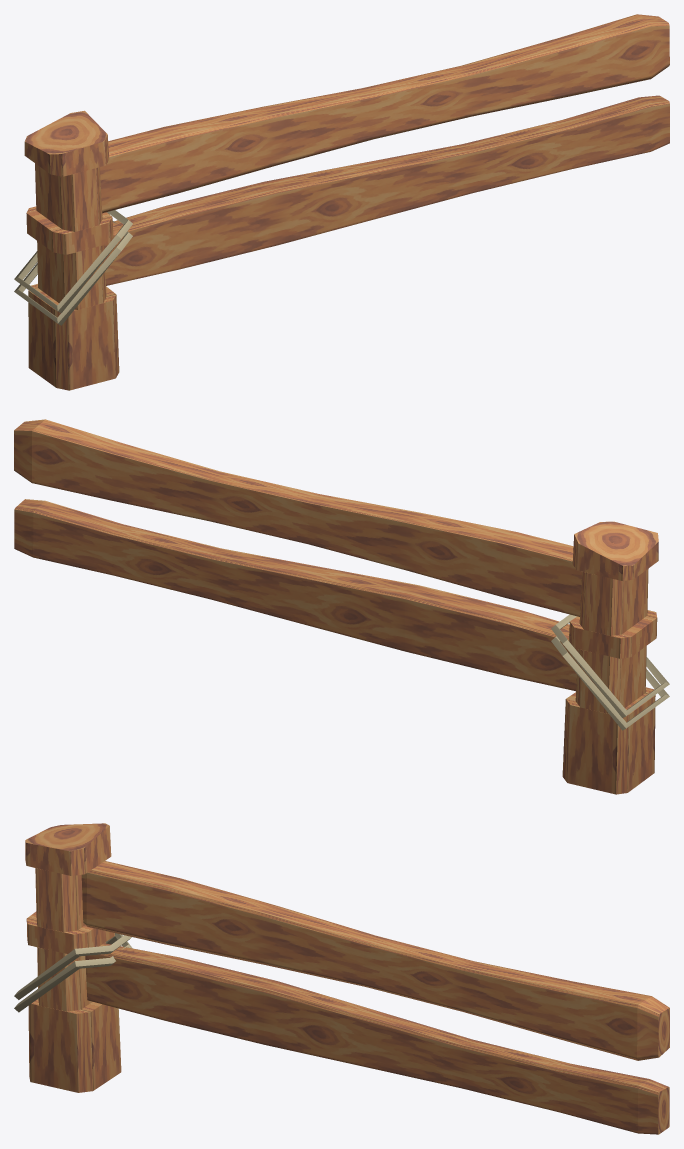
The model's file is fence_w_300_a.glb.
3 views of the same model, one above another, from view 1: azimuth 30°, elevation 25°; view 2: azimuth 150°, elevation 25°; view 3: azimuth 330°, elevation 25° (orthographic).
Visible parts, largest first — view 1: fence_w_300_a; view 2: fence_w_300_a; view 3: fence_w_300_a.
Boxes of the visible parts, x1,y1,x2,y2 form: fence_w_300_a: (14,14,669,390); fence_w_300_a: (14,419,669,794); fence_w_300_a: (14,823,669,1134).
Bounding box in the file's own units: 3.2 × 1.19 × 0.3989.
1 material, 1 textured.
